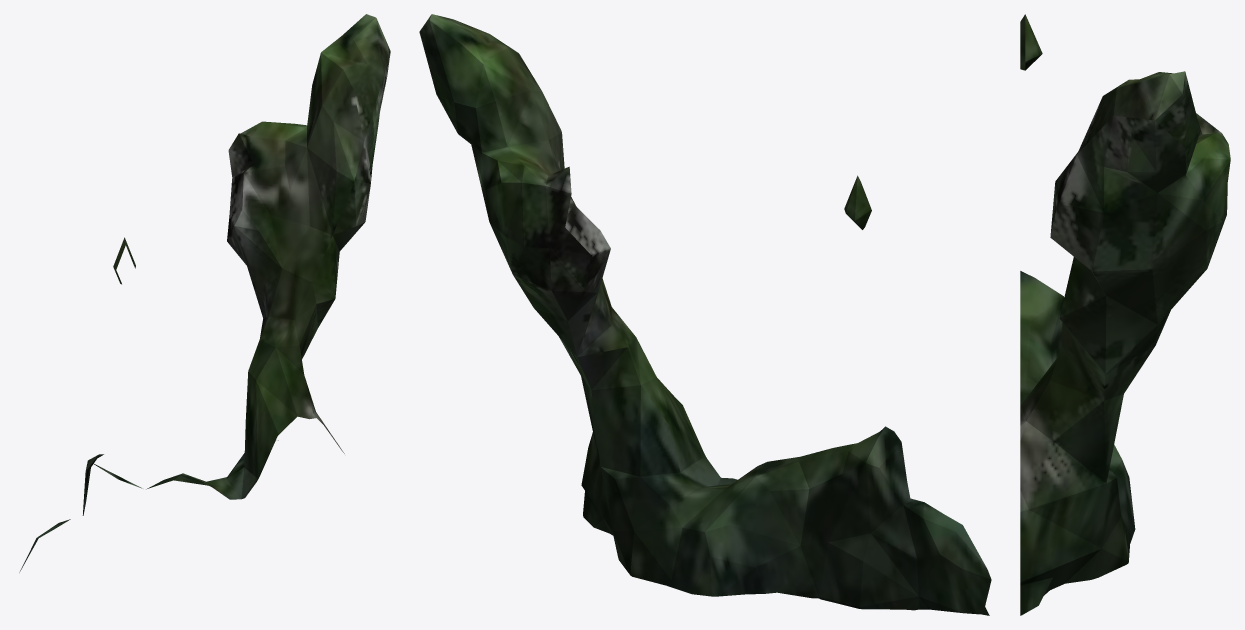
The picture shows the model from 3 angles, left to right: view 1: azimuth 30°, elevation 25°; view 2: azimuth 150°, elevation 25°; view 3: azimuth 270°, elevation 25°; orthographic projection. The views are drawn at different scales.
Bounding box in the file's own units: 0.5257 × 0.5323 × 0.173.
Materials: 1 (1 with a texture image).
